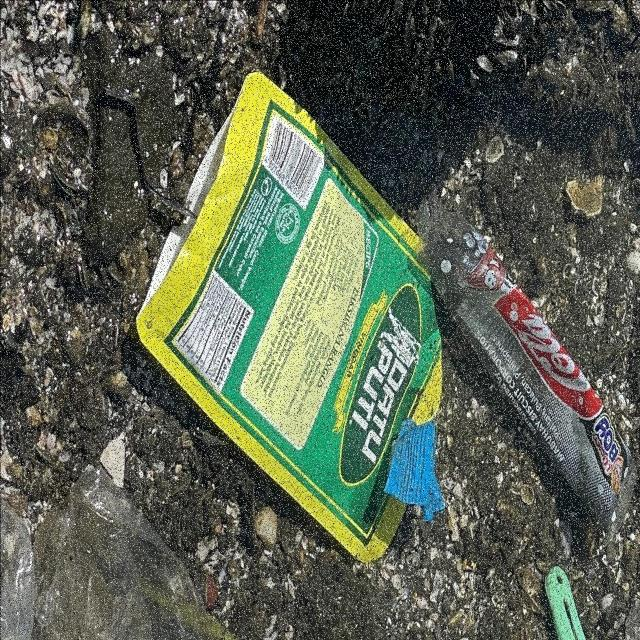plastic_waste: (130, 69, 445, 569), (415, 192, 640, 544), (383, 419, 447, 523)
